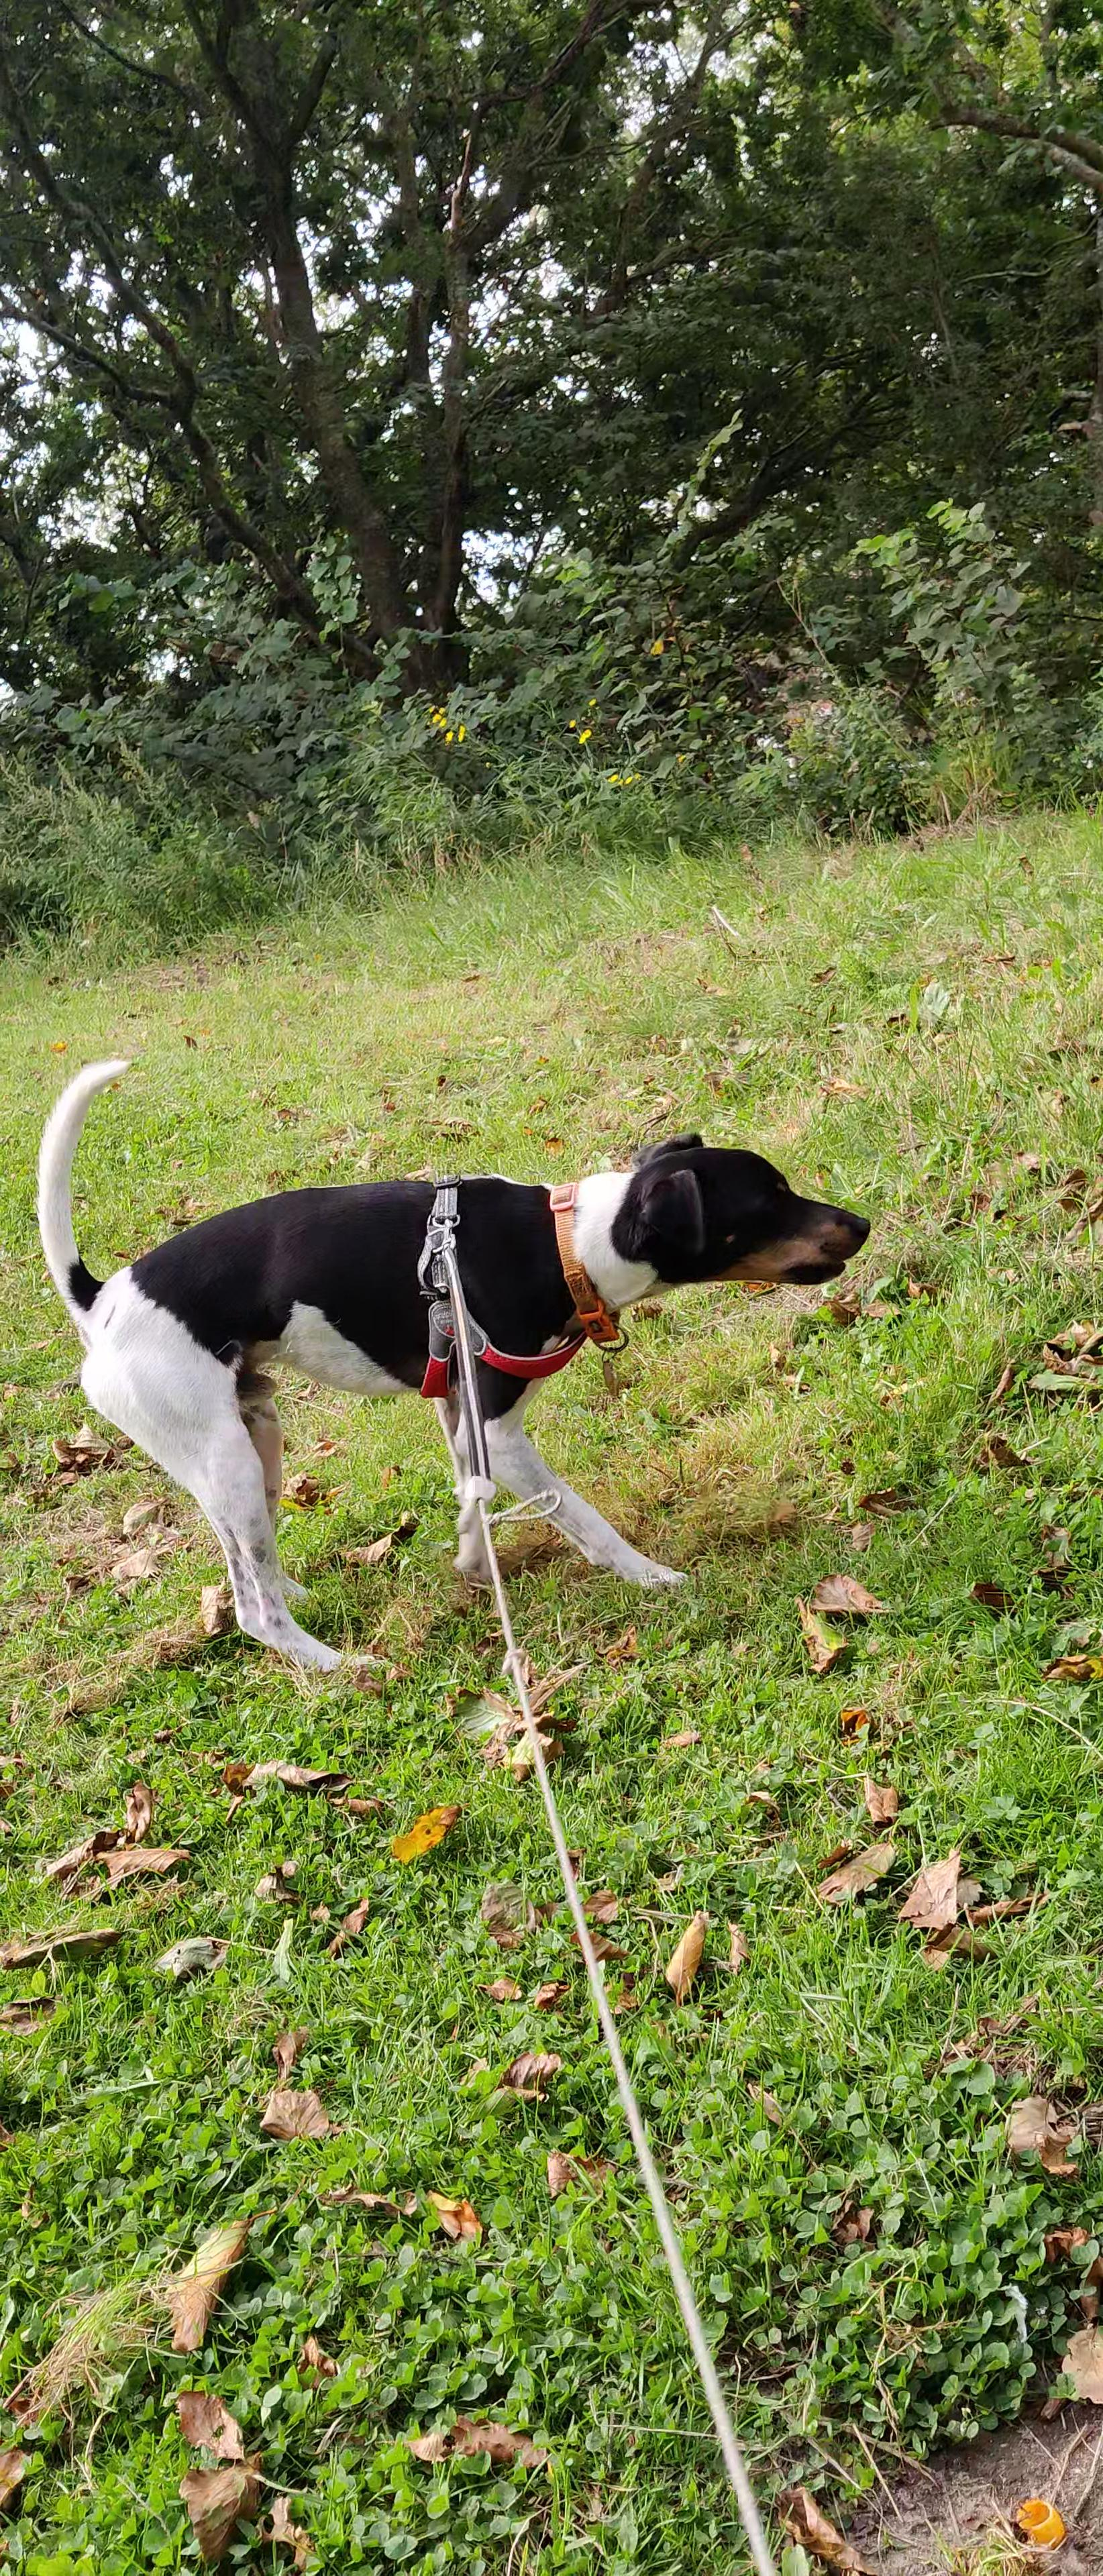Dog: (31, 1055, 873, 1676)
